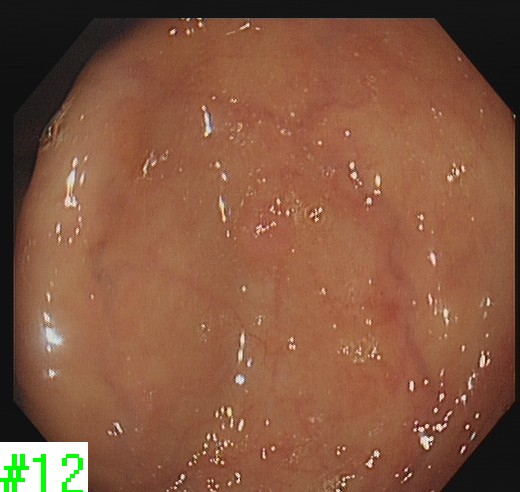adenoma: (230, 199, 300, 262)
